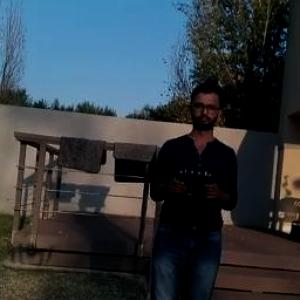follow: (143, 75, 240, 299)
